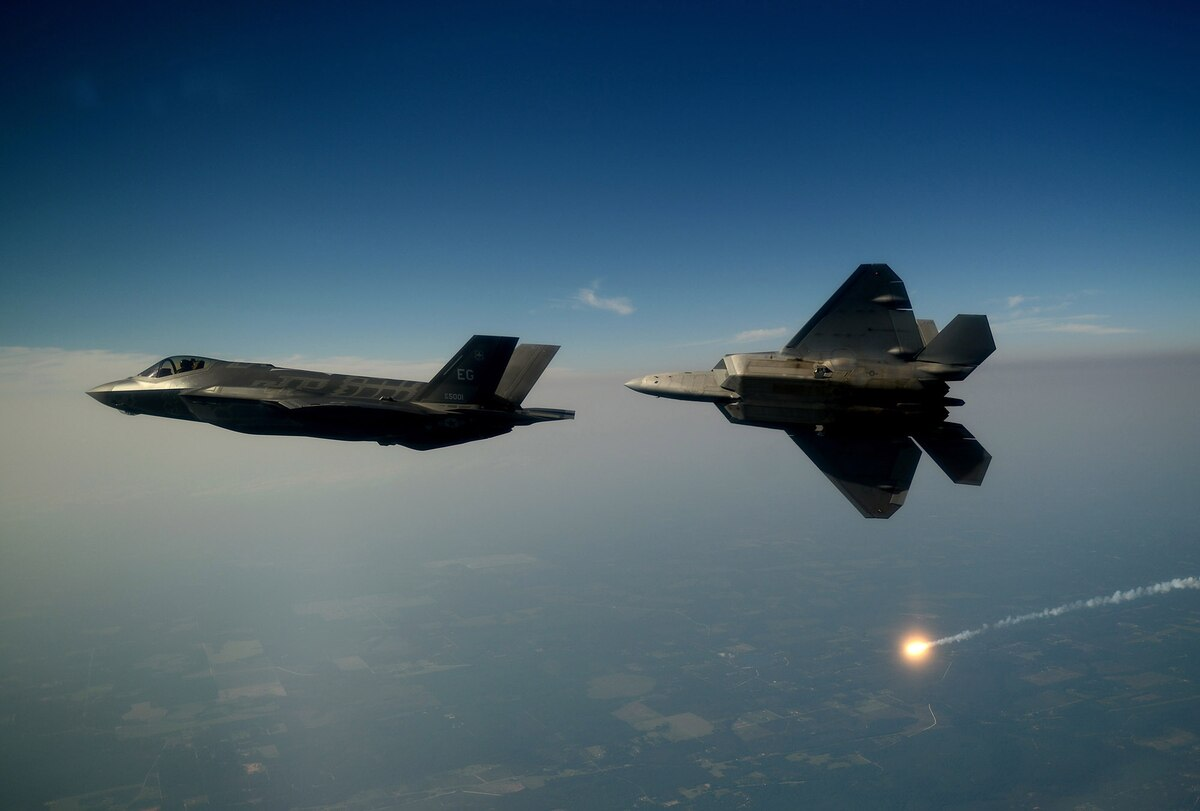F-35 Lightning: (597, 237, 1037, 550), (69, 285, 577, 511)
